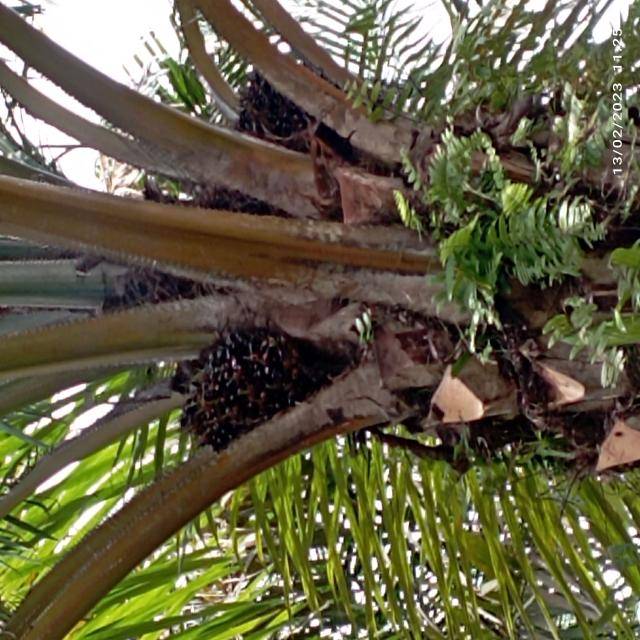fraksi 00: (171, 324, 329, 466)
